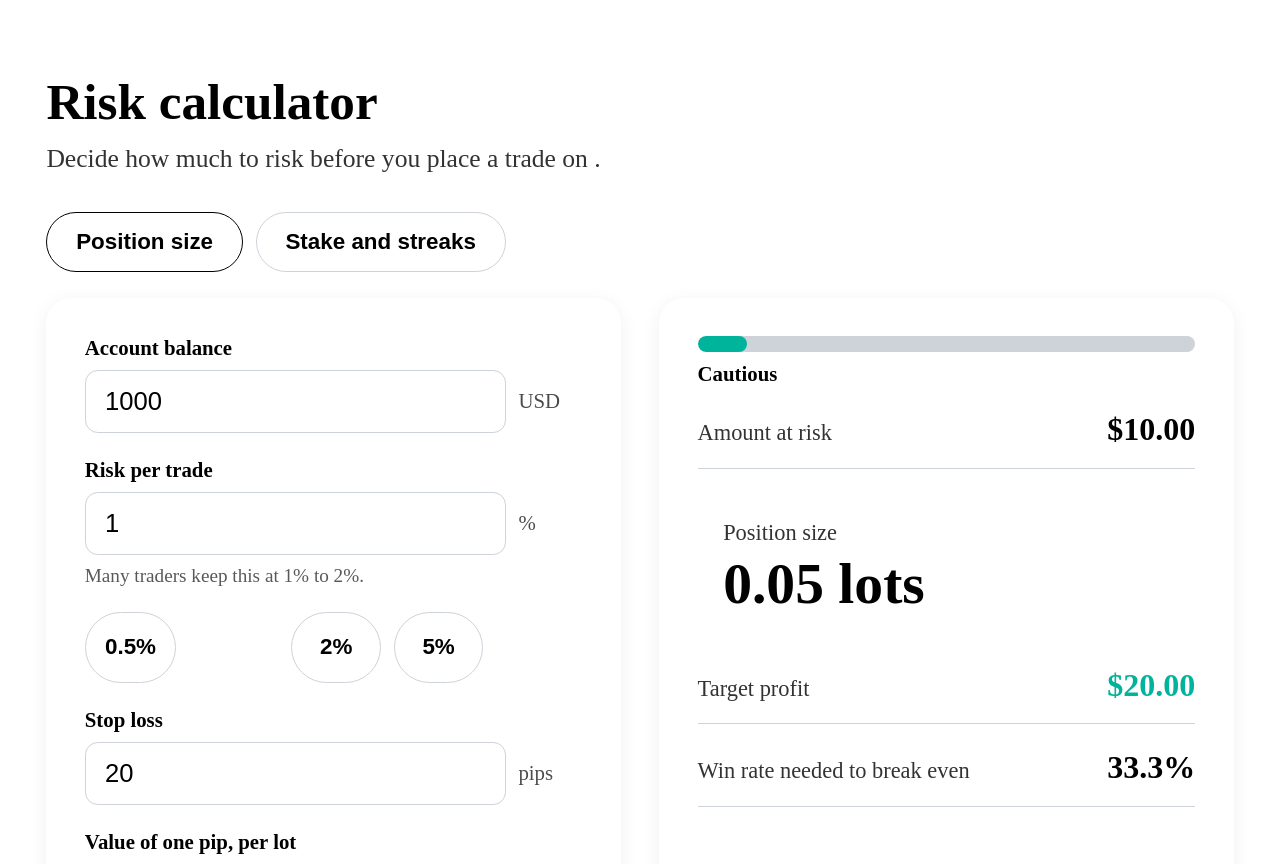
it: <RiskCalculator /> › sets the risk with a preset button and shows which one is chosen
The image size is (1280, 864).
Click the button with test id "dt_risk_preset_5" at (439,647), box [394,612,483,682]
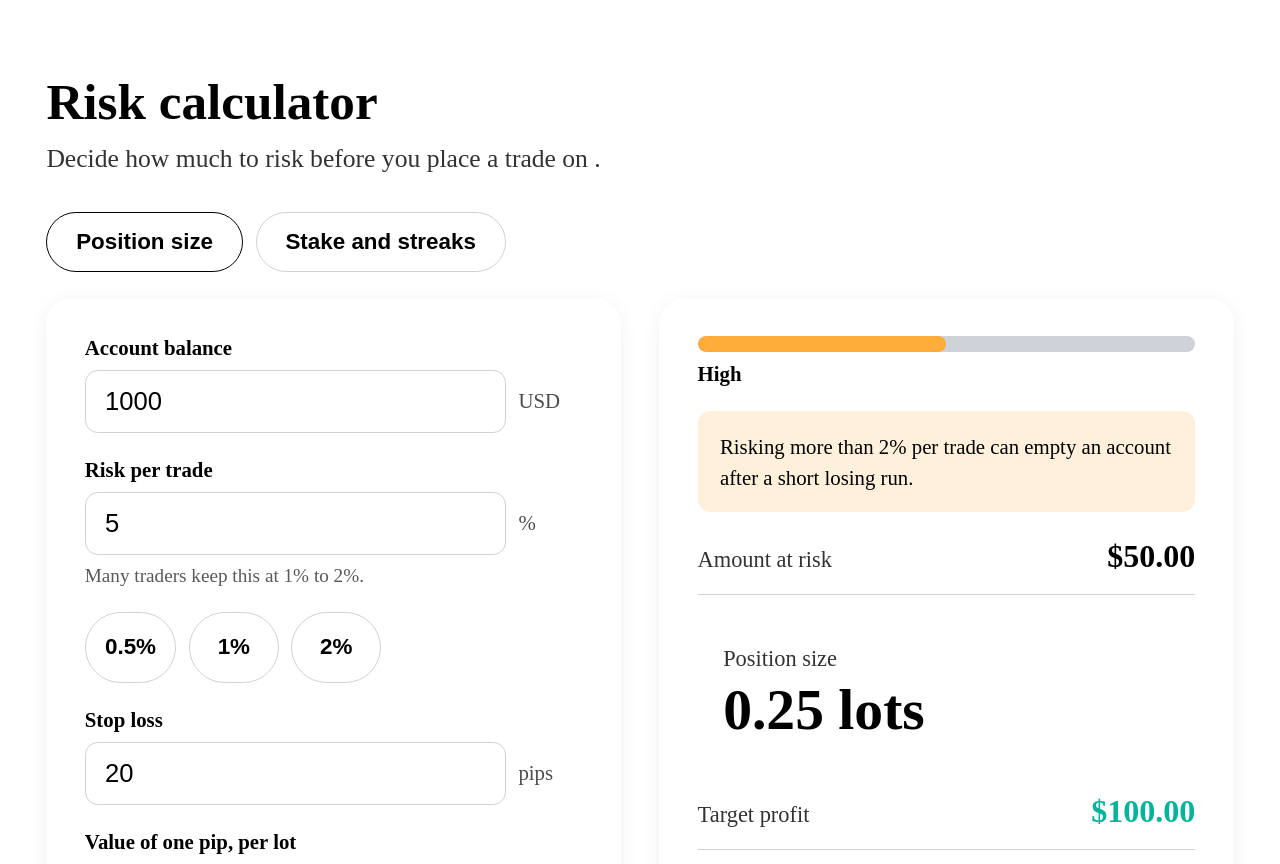
Check: the number field with test id "dt_risk_risk_percent" holds "5", box [85,492,506,555]
